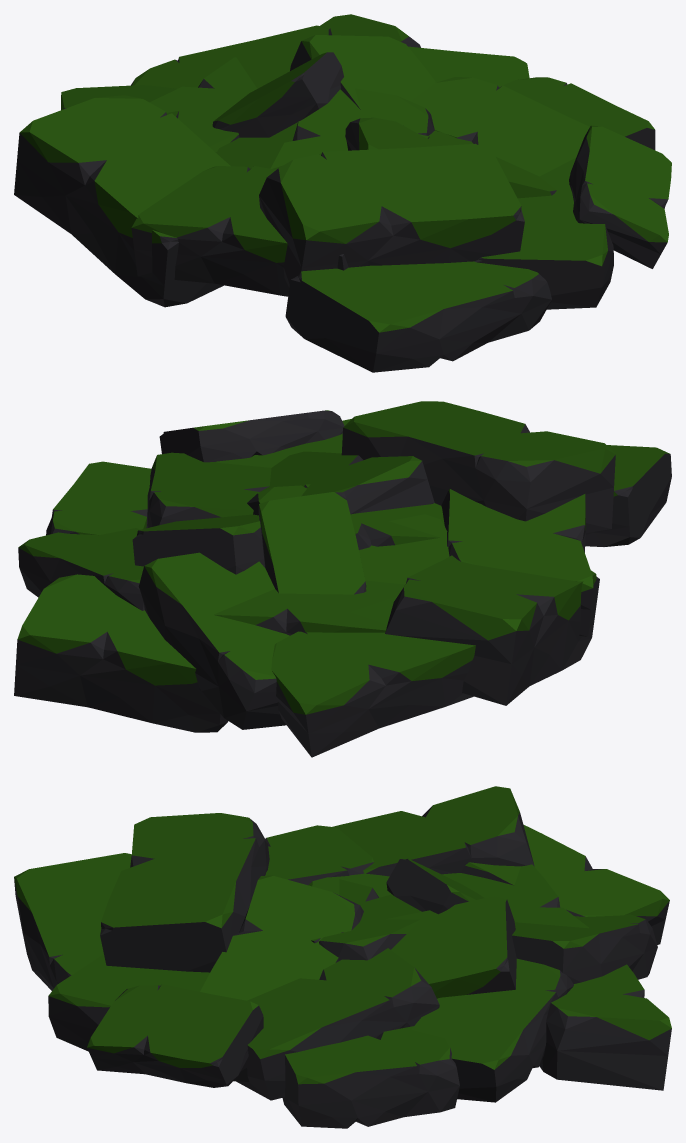
File: Wreck_E.FBX
The picture shows the model from 3 angles, top to bottom: view 1: azimuth 30°, elevation 25°; view 2: azimuth 150°, elevation 25°; view 3: azimuth 270°, elevation 25°; orthographic projection. The views are drawn at different scales.
Visible parts, largest first — view 1: Wreck_003; view 2: Wreck_003; view 3: Wreck_003.
Boxes of the visible parts, x1,y1,x2,y2 form: Wreck_003: (14, 14, 671, 372); Wreck_003: (14, 401, 671, 757); Wreck_003: (14, 786, 671, 1128).
Bounding box in the file's own units: 255 × 76.29 × 284.
